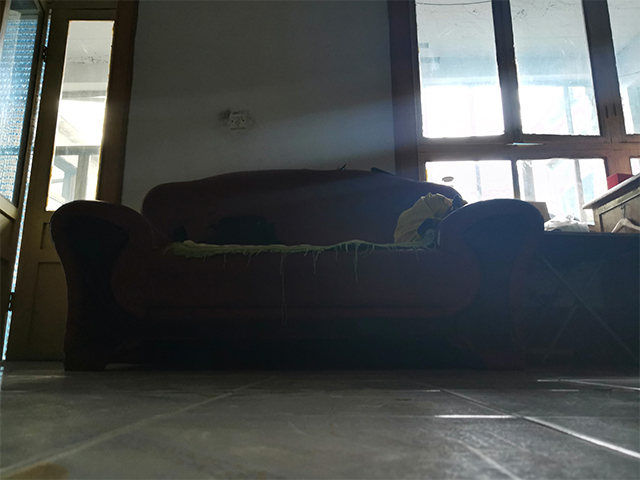sofa: (49, 168, 546, 374)
table: (527, 229, 640, 374)
